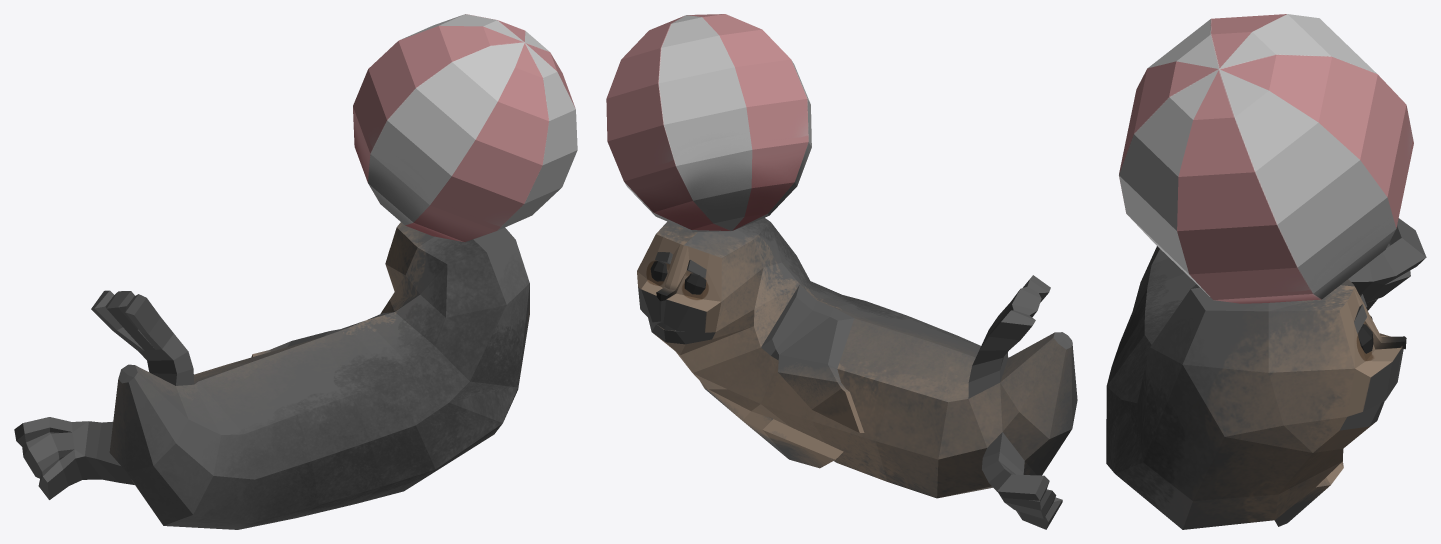
The model's file is statue zeehond.fbx.
3 views of the same model, side by side, from view 1: azimuth 30°, elevation 25°; view 2: azimuth 150°, elevation 25°; view 3: azimuth 270°, elevation 25° (orthographic). The views are drawn at different scales.
Visible parts, largest first — view 1: body.001, ball.001; view 2: body.001, ball.001, eyes.001; view 3: ball.001, body.001.
Part boxes in pixels (<box>): body.001: <box>14,222,529,529</box>; ball.001: <box>353,14,577,242</box>; body.001: <box>637,217,1077,529</box>; ball.001: <box>606,14,811,232</box>; eyes.001: <box>650,260,706,294</box>; ball.001: <box>1119,14,1413,303</box>; body.001: <box>1106,218,1426,529</box>.
Bounding box in the file's own units: 196 × 162 × 83.14.
